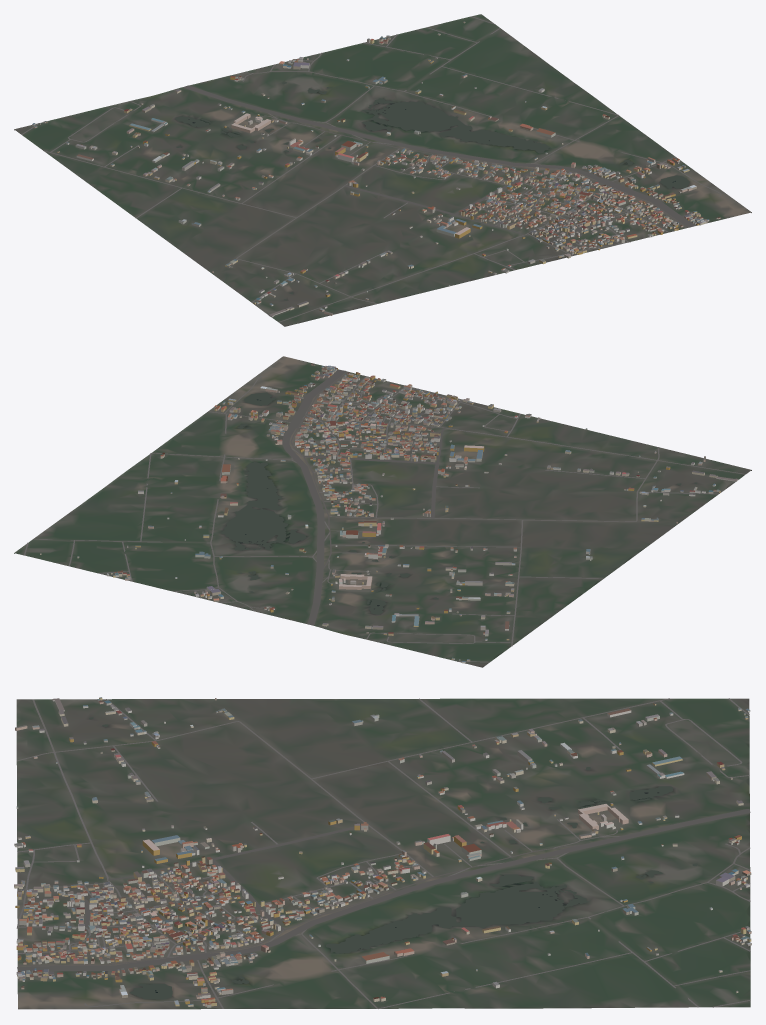
The picture shows the model from 3 angles, top to bottom: view 1: azimuth 30°, elevation 25°; view 2: azimuth 150°, elevation 25°; view 3: azimuth 270°, elevation 25°; orthographic projection. The views are drawn at different scales.
Parts seen in each view (by area): view 1: ground, buildings, roads, water; view 2: ground, buildings, roads, water; view 3: ground, buildings, roads, water.
Boxes of the visible parts, x1=… form: ground: x1=14, y1=14, x2=751, y2=326; buildings: x1=32, y1=21, x2=720, y2=316; roads: x1=21, y1=16, x2=721, y2=322; water: x1=175, y1=82, x2=689, y2=300; ground: x1=14, y1=356, x2=751, y2=667; buildings: x1=40, y1=363, x2=738, y2=663; roads: x1=24, y1=369, x2=745, y2=662; water: x1=221, y1=392, x2=697, y2=614; ground: x1=16, y1=698, x2=750, y2=1009; buildings: x1=14, y1=697, x2=751, y2=1007; roads: x1=16, y1=698, x2=750, y2=1008; water: x1=89, y1=717, x2=697, y2=999.
Size of the model in its own units: 1407 by 18.85 by 1412.
